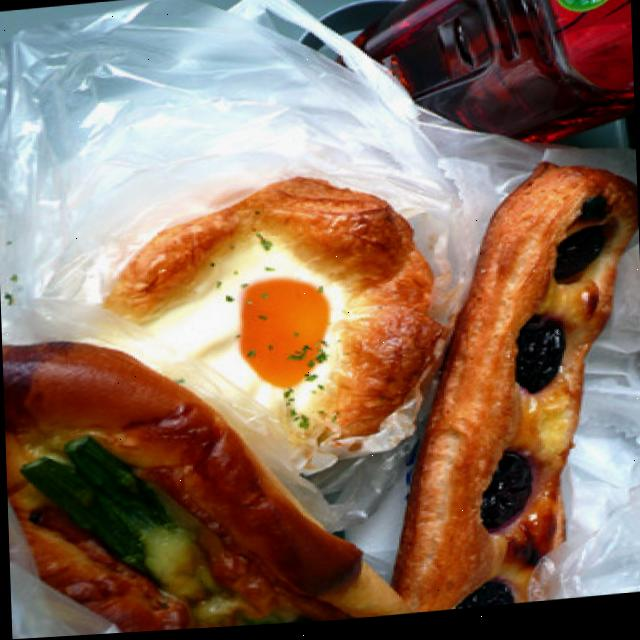三明治: (0, 138, 640, 640)
